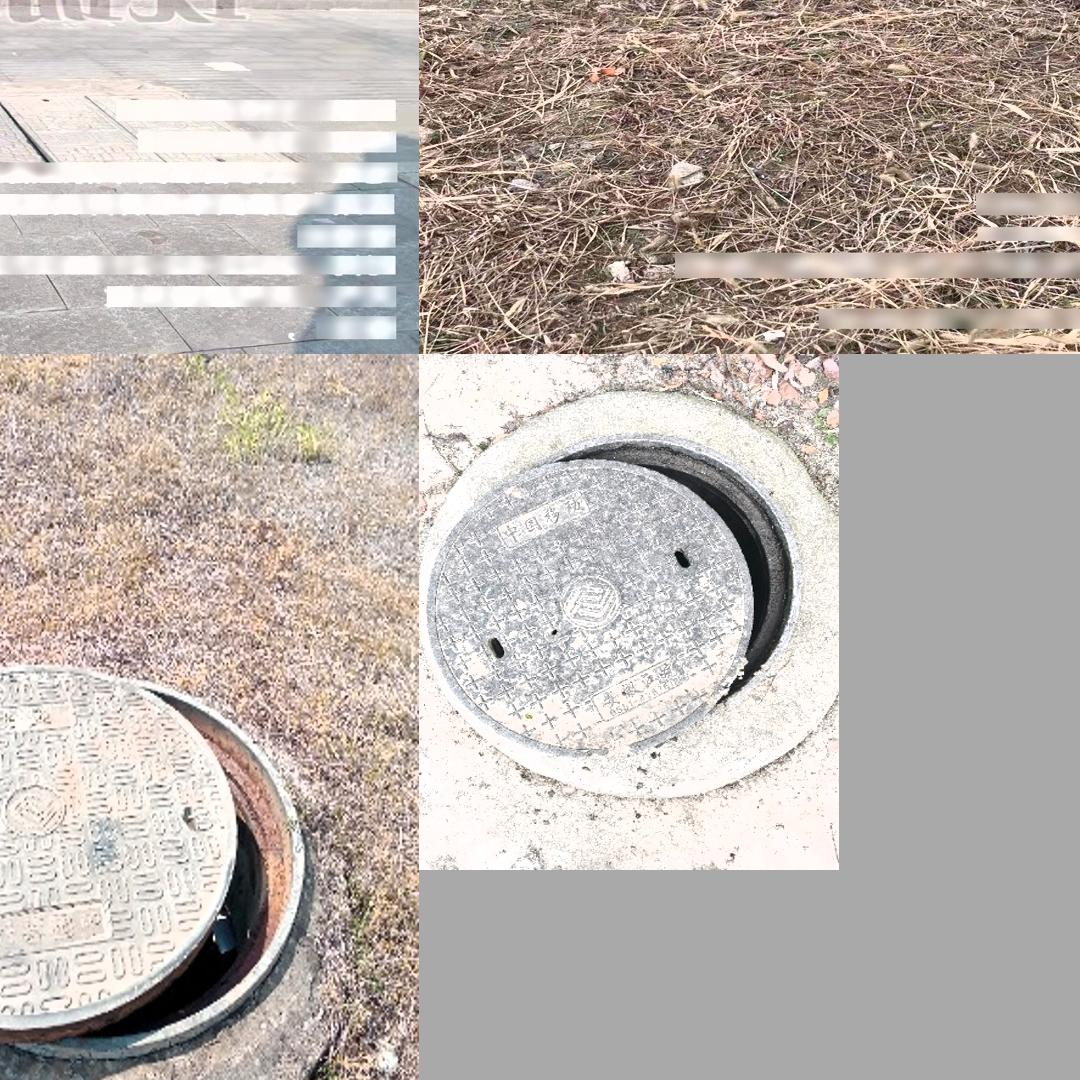uncovered: (0, 662, 312, 1062), (426, 434, 802, 754), (0, 85, 306, 184)
